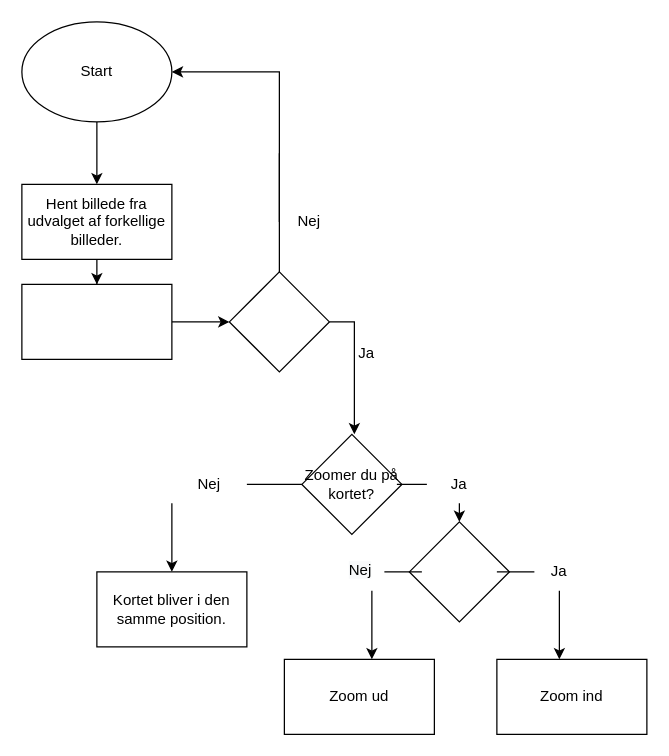
Image size: 669x756. Some labels were removed from this diagram. Each missing label, with the centre of its shape:
"Bliver der vist et billede på skærmen?" belongs at (278,321).
"Vis billede på skærm, sammen med kort af EUC Syd." belongs at (96,321).
"Zoomer du ind på kortet?" belongs at (458,571).
